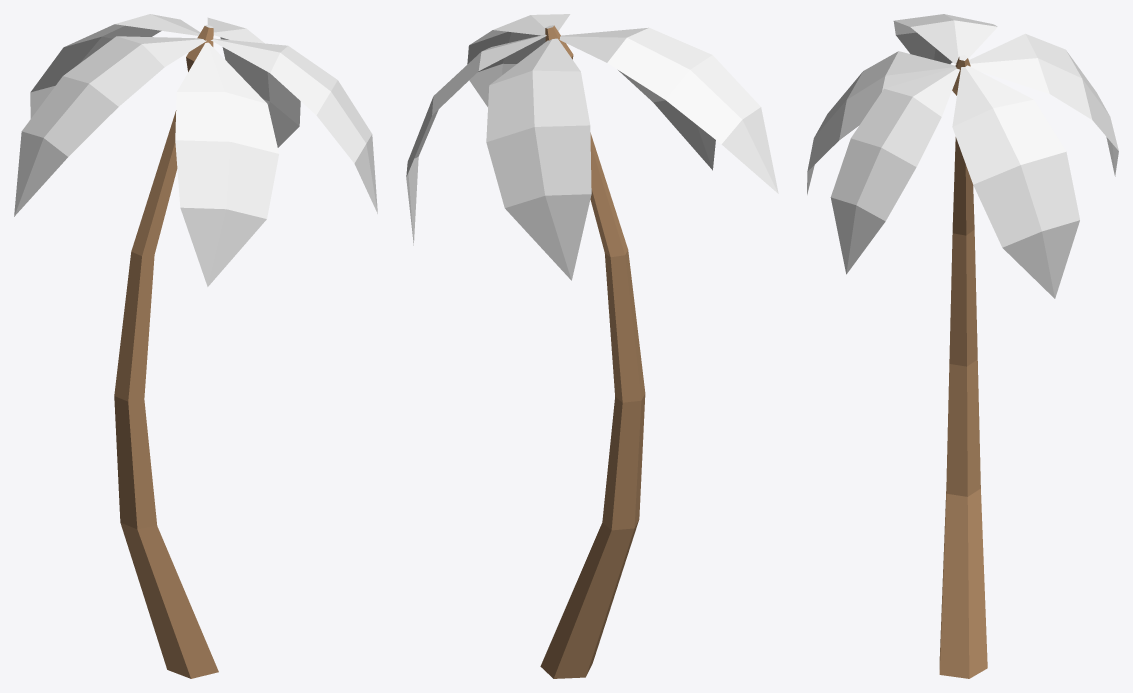
File: Palm_Tree_OneSided_s_Snow_03_LOD.fbx
3 renders of one model, left to right at view 1: azimuth 30°, elevation 25°; view 2: azimuth 150°, elevation 25°; view 3: azimuth 270°, elevation 25°, orthographic. The views are drawn at different scales.
Visible parts, largest first — view 1: Palm_Tree_OneSided_s_Snow_03_LOD0; view 2: Palm_Tree_OneSided_s_Snow_03_LOD0; view 3: Palm_Tree_OneSided_s_Snow_03_LOD0.
Part boxes in pixels (x1=…): Palm_Tree_OneSided_s_Snow_03_LOD0: x1=14, y1=14, x2=377, y2=678; Palm_Tree_OneSided_s_Snow_03_LOD0: x1=406, y1=14, x2=778, y2=678; Palm_Tree_OneSided_s_Snow_03_LOD0: x1=807, y1=14, x2=1118, y2=678.
Size of what is drawn, in the model's own units: 236 by 431 by 196.
